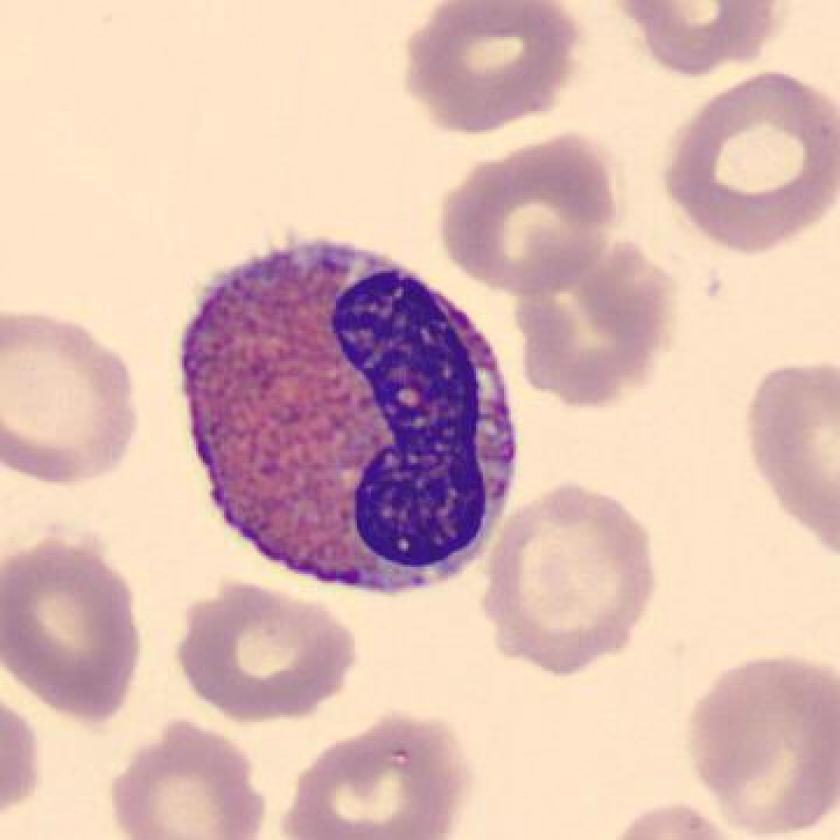eosinophil: (169, 230, 526, 610)
